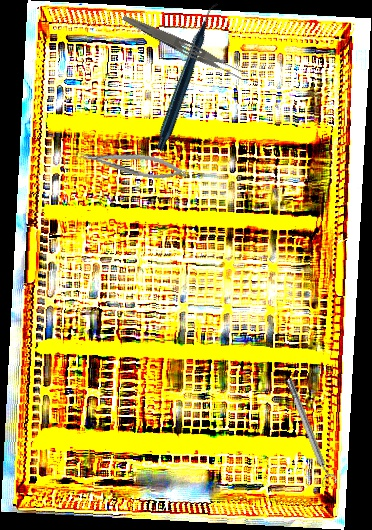Dressing Forceps: (119, 12, 247, 83)
Fixation Ring: (281, 375, 339, 489)
Handpiece: (109, 2, 269, 153)
Needle Holder: (76, 140, 189, 187)
